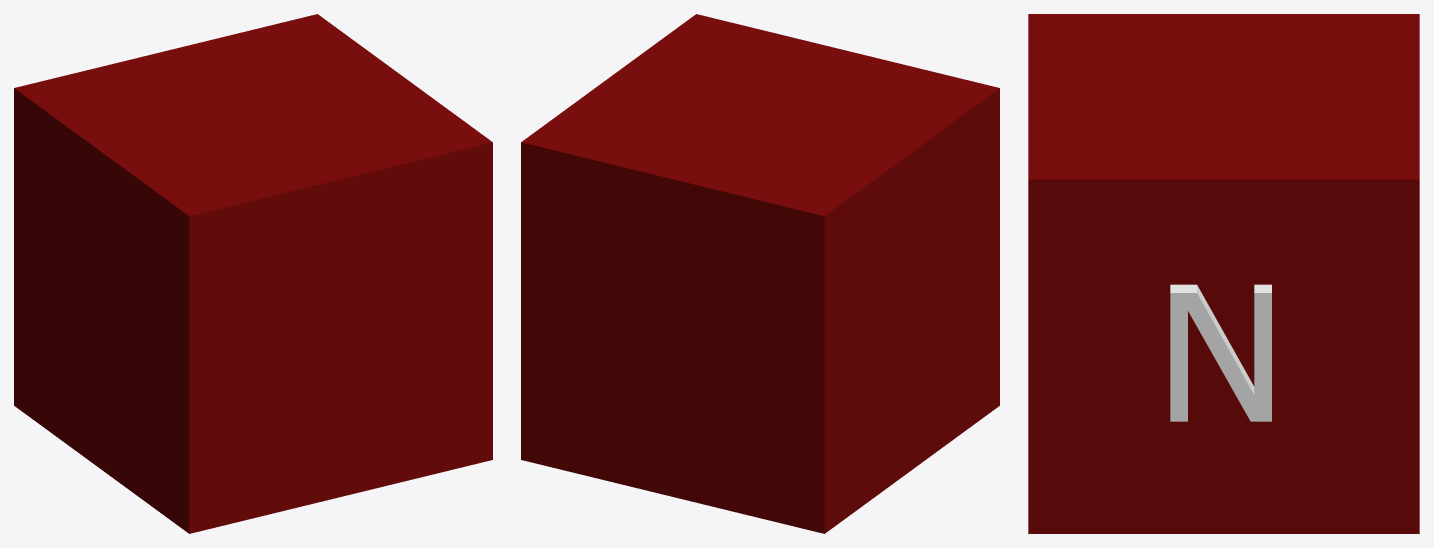
The picture shows the model from 3 angles, left to right: view 1: azimuth 30°, elevation 25°; view 2: azimuth 150°, elevation 25°; view 3: azimuth 270°, elevation 25°; orthographic projection. The views are drawn at different scales.
Parts seen in each view (by area): view 1: SketchUp; view 2: SketchUp; view 3: SketchUp, N.
Boxes of the visible parts, x1,y1,x2,y2 form: SketchUp: [14, 14, 492, 533]; SketchUp: [521, 14, 999, 533]; SketchUp: [1028, 14, 1419, 533]; N: [1170, 284, 1271, 421].
Bounding box in the file's own units: 21 × 20 × 20.
